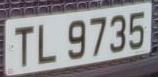3: (107, 10, 128, 55)
5: (126, 7, 147, 53)
7: (86, 14, 109, 58)
9: (64, 17, 89, 63)
L: (34, 19, 60, 70)
T: (12, 20, 38, 74)
